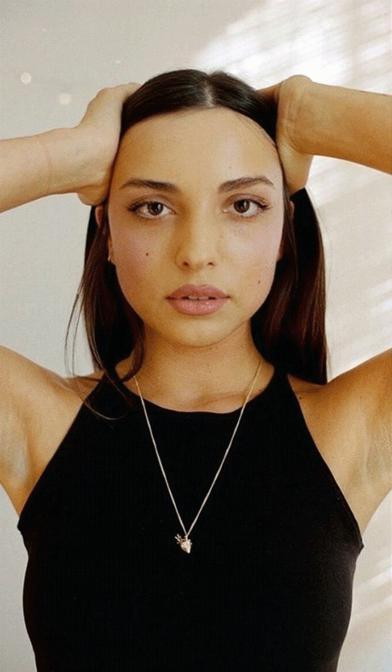Sober: (113, 123, 281, 317)
